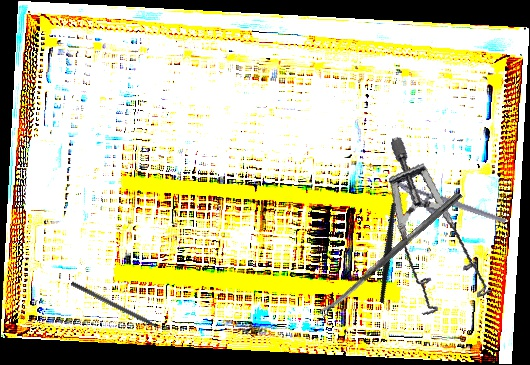Chopper: (339, 182, 434, 304)
Hook Surgical: (69, 280, 174, 338)
Needle Holder: (384, 177, 507, 240)
Speculum: (357, 135, 520, 328)
Surgical Spoon: (318, 190, 463, 318)
